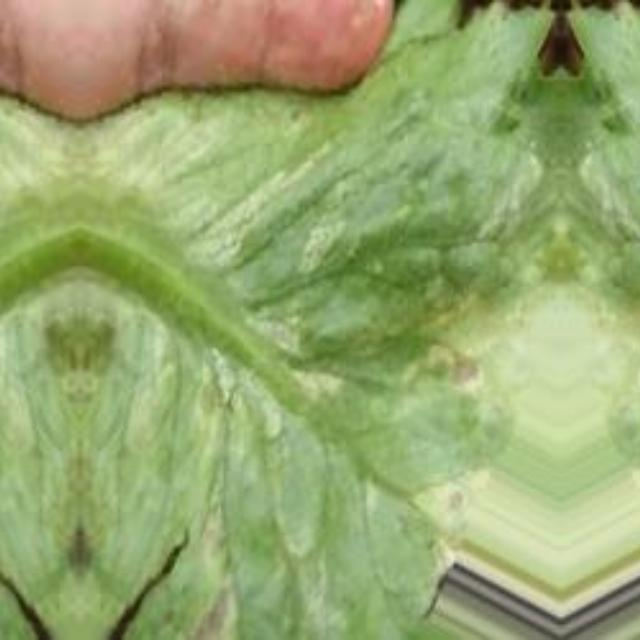Downy_mildew: (146, 215, 338, 305), (468, 154, 542, 228), (218, 357, 296, 418), (578, 154, 640, 228), (286, 212, 348, 272), (242, 297, 302, 348), (290, 364, 350, 396), (0, 215, 12, 305)
